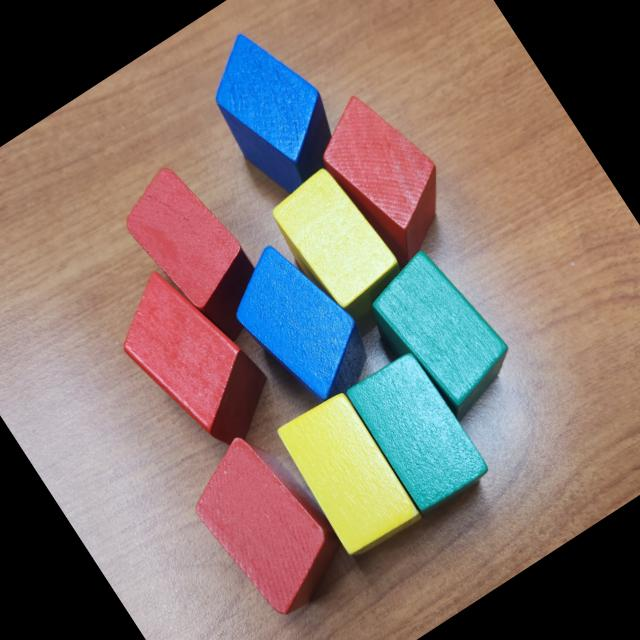blue: (185, 12, 358, 204), (212, 228, 382, 416)
green: (354, 237, 529, 432), (342, 344, 496, 518)
red: (96, 251, 290, 468), (172, 418, 360, 628), (110, 154, 284, 358), (300, 77, 473, 274)
yellow: (261, 160, 425, 346), (270, 386, 422, 559)
